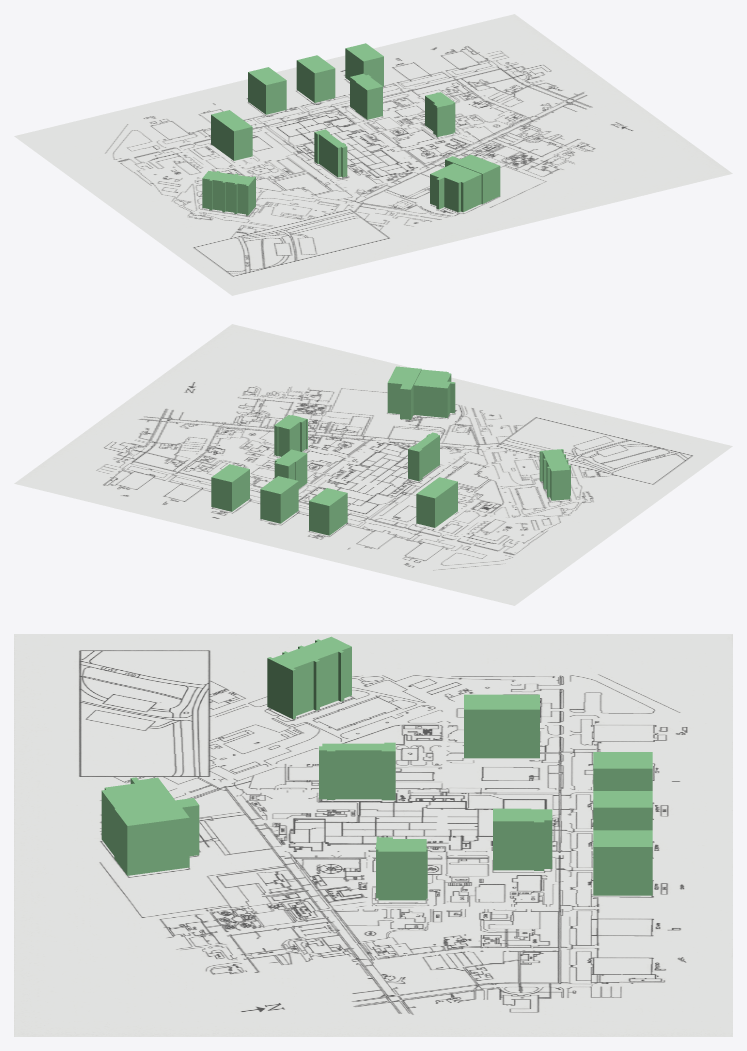
Rendered from campus.glb.
3 renders of one model, top to bottom at view 1: azimuth 30°, elevation 25°; view 2: azimuth 150°, elevation 25°; view 3: azimuth 270°, elevation 25°, orthographic. The views are drawn at different scales.
Parts seen in each view (by area): view 1: floor-map, bldg-1700__HIIT, bldg-1217__HIIT, bldg-22__HIT, bldg-44__HIIT, bldg-43__HIIT, bldg-1562__HIIT, bldg-64__HIIT, bldg-45__HIIT, bldg-340__HIIT, bldg-17002__HIIT; view 2: floor-map, bldg-1700__HIIT, bldg-22__HIT, bldg-45__HIIT, bldg-44__HIIT, bldg-43__HIIT, bldg-1217__HIIT, bldg-17002__HIIT, bldg-340__HIIT, bldg-64__HIIT, bldg-1562__HIIT; view 3: floor-map, bldg-17002__HIIT, bldg-1217__HIIT, bldg-22__HIT, bldg-64__HIIT, bldg-45__HIIT, bldg-1562__HIIT, bldg-340__HIIT, bldg-44__HIIT, bldg-43__HIIT, bldg-1700__HIIT.
Boxes of the visible parts, x1=… form: floor-map: x1=14, y1=14, x2=732, y2=295; bldg-1700__HIIT: x1=430, y1=163, x2=481, y2=212; bldg-1217__HIIT: x1=202, y1=171, x2=255, y2=215; bldg-22__HIT: x1=211, y1=110, x2=252, y2=160; bldg-44__HIIT: x1=296, y1=55, x2=335, y2=102; bldg-43__HIIT: x1=248, y1=67, x2=286, y2=114; bldg-1562__HIIT: x1=350, y1=73, x2=382, y2=119; bldg-64__HIIT: x1=314, y1=129, x2=347, y2=177; bldg-45__HIIT: x1=345, y1=43, x2=383, y2=86; bldg-340__HIIT: x1=425, y1=92, x2=455, y2=137; bldg-17002__HIIT: x1=445, y1=154, x2=500, y2=203; floor-map: x1=14, y1=324, x2=732, y2=605; bldg-1700__HIIT: x1=413, y1=369, x2=455, y2=417; bldg-22__HIT: x1=416, y1=477, x2=457, y2=527; bldg-45__HIIT: x1=211, y1=464, x2=249, y2=511; bldg-44__HIIT: x1=260, y1=476, x2=298, y2=523; bldg-43__HIIT: x1=309, y1=488, x2=347, y2=535; bldg-1217__HIIT: x1=539, y1=449, x2=570, y2=500; bldg-17002__HIIT: x1=387, y1=366, x2=421, y2=419; bldg-340__HIIT: x1=274, y1=415, x2=307, y2=456; bldg-64__HIIT: x1=408, y1=432, x2=439, y2=481; bldg-1562__HIIT: x1=274, y1=449, x2=307, y2=488; floor-map: x1=14, y1=634, x2=732, y2=1036; bldg-17002__HIIT: x1=114, y1=798, x2=199, y2=875; bldg-1217__HIIT: x1=267, y1=636, x2=351, y2=719; bldg-22__HIT: x1=464, y1=694, x2=539, y2=758; bldg-64__HIIT: x1=319, y1=742, x2=395, y2=800; bldg-45__HIIT: x1=593, y1=830, x2=652, y2=895; bldg-1562__HIIT: x1=493, y1=808, x2=552, y2=870; bldg-340__HIIT: x1=376, y1=836, x2=427, y2=900; bldg-44__HIIT: x1=593, y1=791, x2=652, y2=830; bldg-43__HIIT: x1=593, y1=752, x2=652, y2=790; bldg-1700__HIIT: x1=101, y1=777, x2=174, y2=855.
Bounding box in the file's own units: 700 × 41.62 × 528.
Materials: 2 (1 with a texture image).
